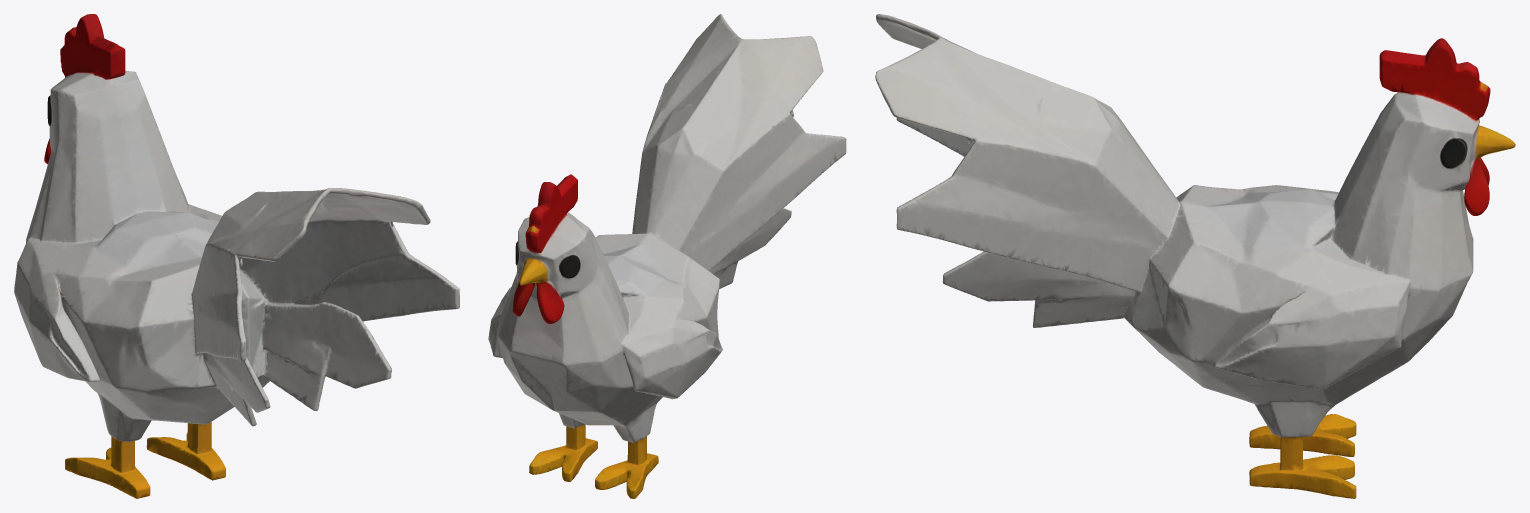
Rendered from rooster.glb.
3 views of the same model, side by side, from view 1: azimuth 30°, elevation 25°; view 2: azimuth 150°, elevation 25°; view 3: azimuth 270°, elevation 25° (orthographic). The views are drawn at different scales.
Visible parts, largest first — view 1: tripo_node_7422e966-7e87-4200-b164-cb66d58a021c; view 2: tripo_node_7422e966-7e87-4200-b164-cb66d58a021c; view 3: tripo_node_7422e966-7e87-4200-b164-cb66d58a021c.
Part boxes in pixels (bbox=[...]): tripo_node_7422e966-7e87-4200-b164-cb66d58a021c: bbox=[14, 14, 459, 498]; tripo_node_7422e966-7e87-4200-b164-cb66d58a021c: bbox=[488, 14, 846, 498]; tripo_node_7422e966-7e87-4200-b164-cb66d58a021c: bbox=[875, 14, 1515, 498].
Bounding box in the file's own units: 0.4517 × 0.7389 × 1.
1 material, 1 textured.
